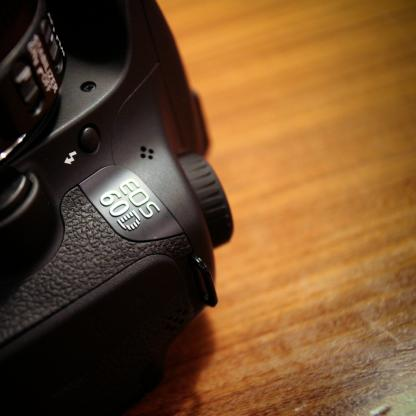Camera: (1, 4, 239, 416)
